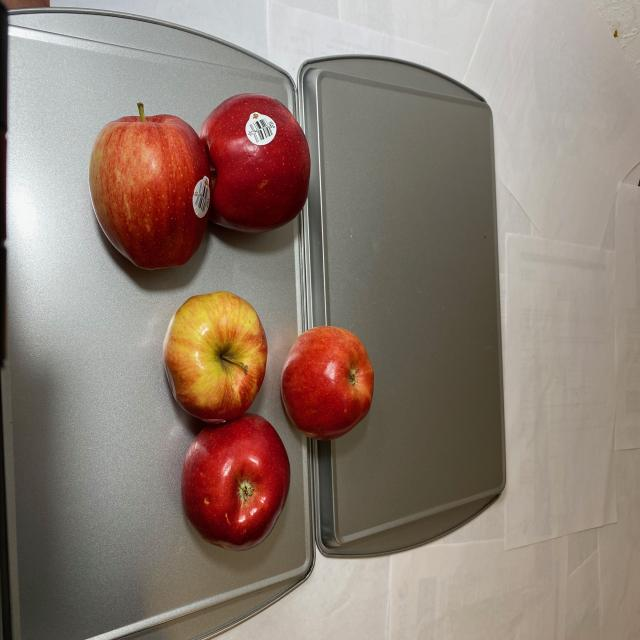apple: (160, 291, 376, 557), (85, 90, 312, 275)
